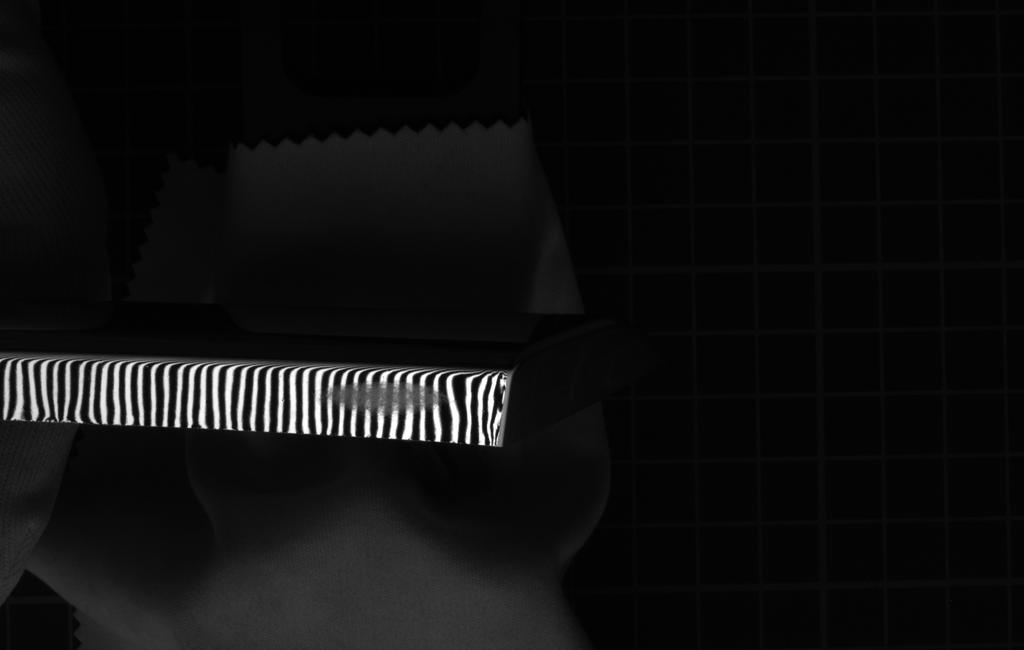Pitting: (315, 377, 462, 428)
